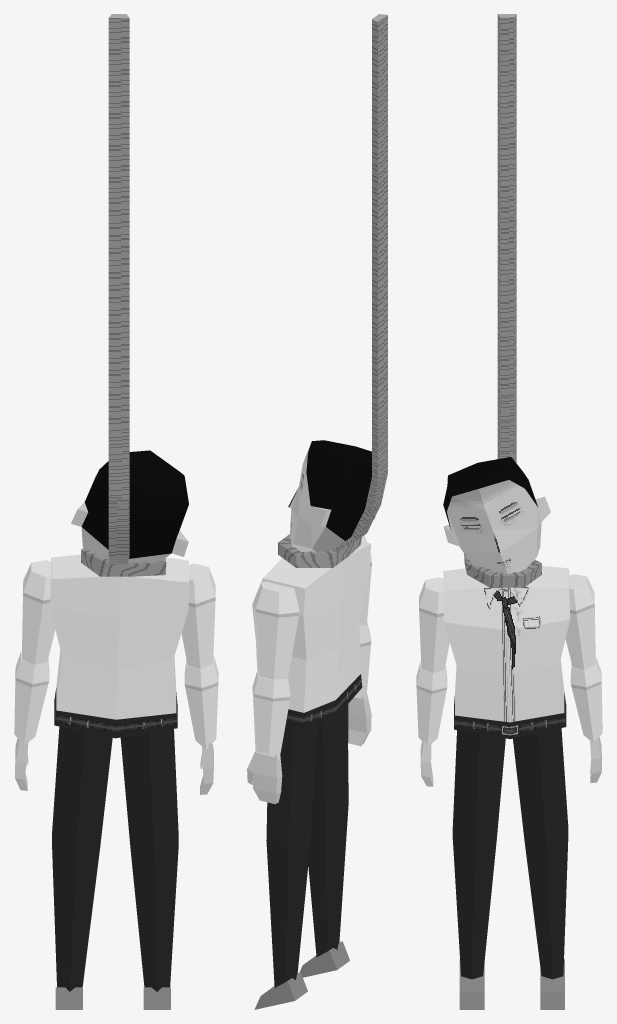
The model's file is modelosamuel.gltf.
The picture shows the model from 3 angles, left to right: view 1: azimuth 90°, elevation 25°; view 2: azimuth 150°, elevation 25°; view 3: azimuth 270°, elevation 25°; orthographic projection. The views are drawn at different scales.
Visible parts, largest first — view 1: Corda, Tronco, Cabeça, Abdomen, Coxa Esq, Coxa Dir, Braço Esq, Perna Esq, Perna Dir, Antebraço Esq, Cintura, Sapato Esq (+2 smaller); view 2: Corda, Cabeça, Tronco, Perna Esq, Coxa Esq, Perna Dir, Braço Esq, Abdomen, Coxa Dir, Antebraço Esq, Cintura, Palma Esq (+4 smaller); view 3: Tronco, Corda, Cabeça, Abdomen, Coxa Esq, Coxa Dir, Braço Esq, Perna Esq, Perna Dir, Antebraço Esq, Cintura, Sapato Dir (+2 smaller).
Boxes of the visible parts, <box> form: Corda: <box>81,14,166,576</box>; Tronco: <box>50,554,188,668</box>; Cabeça: <box>71,450,188,562</box>; Abdomen: <box>56,650,176,719</box>; Coxa Esq: <box>52,726,112,851</box>; Coxa Dir: <box>120,729,178,851</box>; Braço Esq: <box>22,560,215,668</box>; Perna Esq: <box>52,845,100,991</box>; Perna Dir: <box>130,846,178,991</box>; Antebraço Esq: <box>14,651,218,749</box>; Cintura: <box>54,688,177,738</box>; Sapato Esq: <box>55,987,82,1009</box>; Corda: <box>278,14,387,567</box>; Cabeça: <box>288,440,375,552</box>; Tronco: <box>252,541,370,659</box>; Perna Esq: <box>266,840,310,987</box>; Coxa Esq: <box>266,723,318,845</box>; Perna Dir: <box>308,810,348,956</box>; Braço Esq: <box>254,535,371,679</box>; Abdomen: <box>288,624,360,712</box>; Coxa Dir: <box>312,704,348,820</box>; Antebraço Esq: <box>252,622,371,759</box>; Cintura: <box>286,674,362,727</box>; Palma Esq: <box>253,693,371,778</box>; Tronco: <box>443,566,570,676</box>; Corda: <box>464,14,541,587</box>; Cabeça: <box>443,457,550,574</box>; Abdomen: <box>455,660,564,722</box>; Coxa Esq: <box>513,728,568,842</box>; Coxa Dir: <box>452,730,505,843</box>; Braço Esq: <box>419,574,595,673</box>; Perna Esq: <box>524,837,568,979</box>; Perna Dir: <box>452,838,496,979</box>; Antebraço Esq: <box>416,657,602,746</box>; Cintura: <box>454,692,566,739</box>; Sapato Dir: <box>459,959,484,1009</box>.
Size of the model in its own units: 1.3 by 11.62 by 2.06.
1 material, 1 textured.
